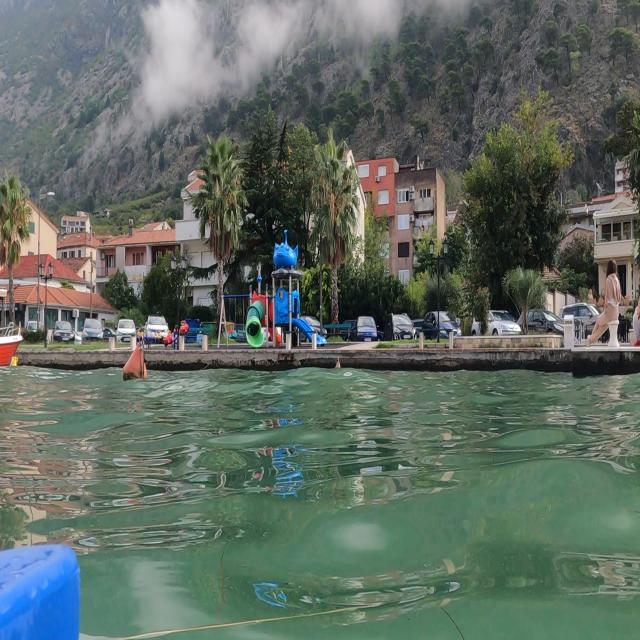buoy: (123, 330, 159, 389)
